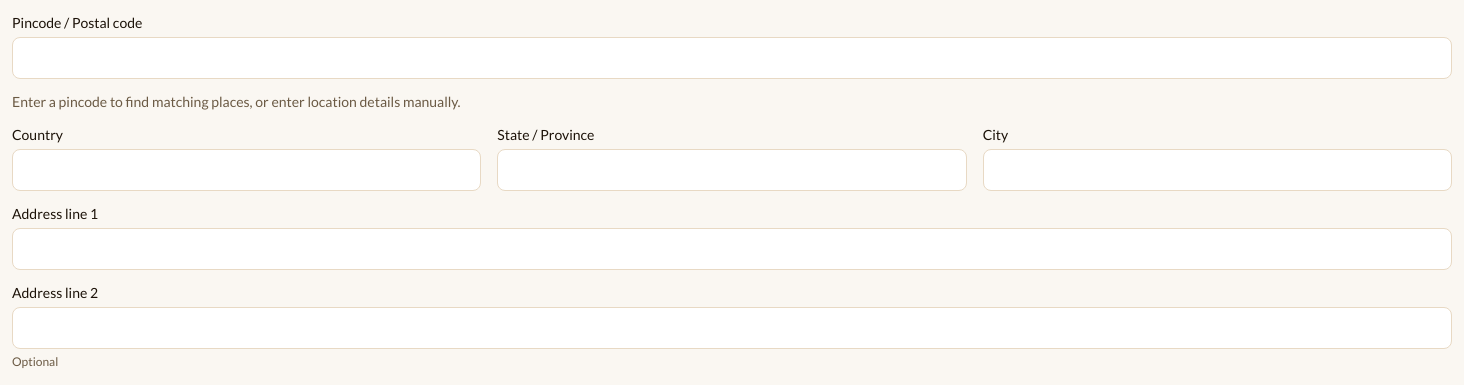
it: MemberAddressFields › surfaces manual-entry guidance for no_match
In the field labelled "Pincode / Postal code": [732, 58] box [13,38,1451,78], type "78701"
Wait 550 ms
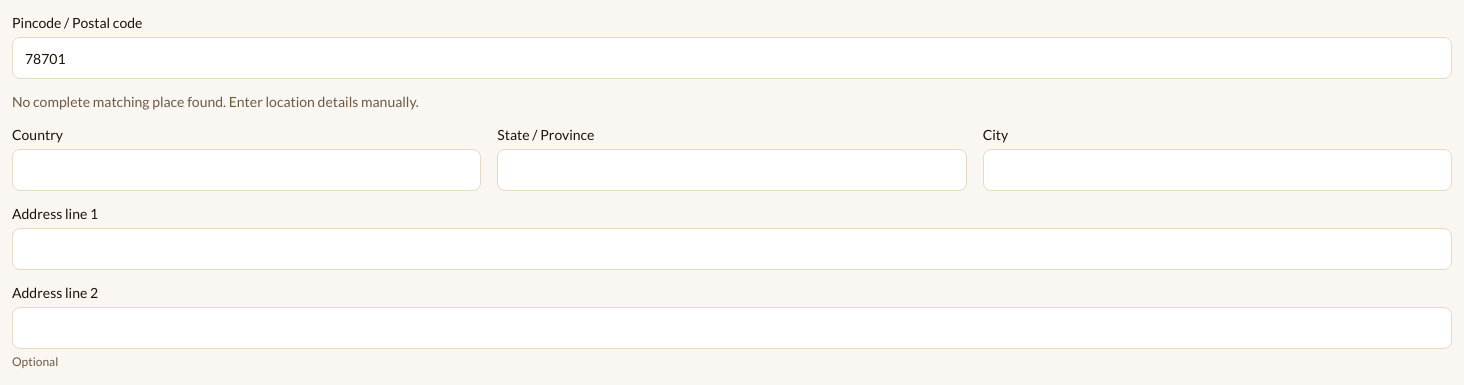
Expected: the field labelled "Country" is shown, [13,150,480,190]
Result: the message shows "No complete matching place" at [12,93,419,110]
